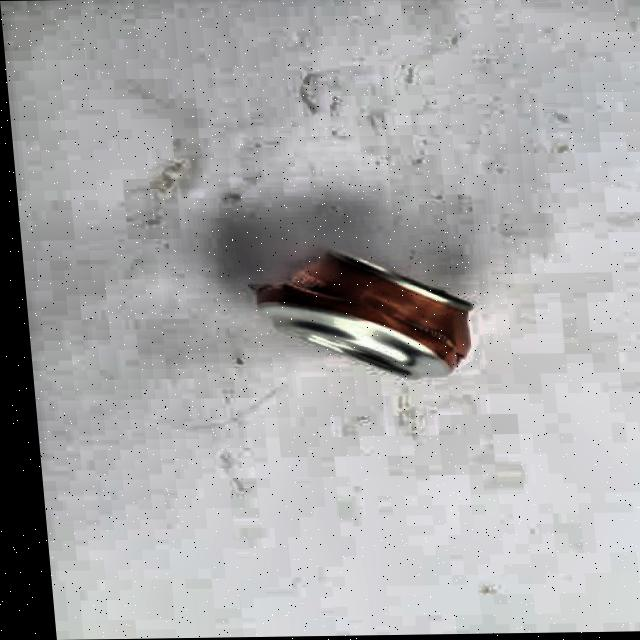metal: (245, 244, 485, 384)
